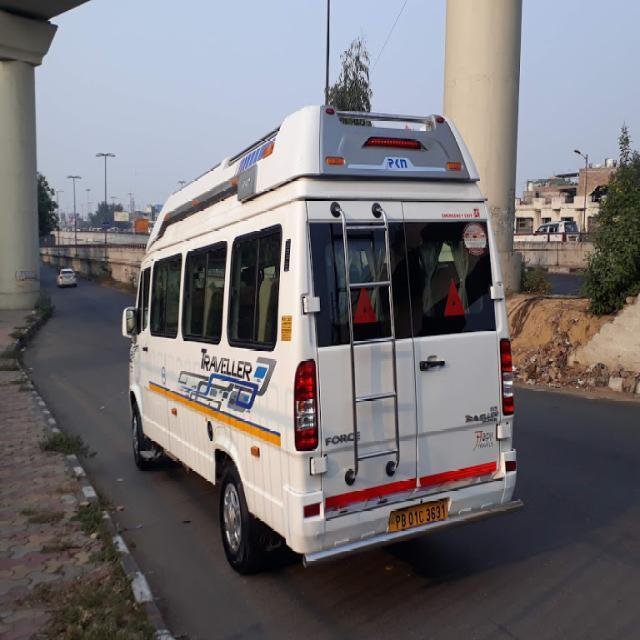Ambulance: (15, 262, 638, 638), (120, 102, 522, 576), (53, 264, 79, 292)
